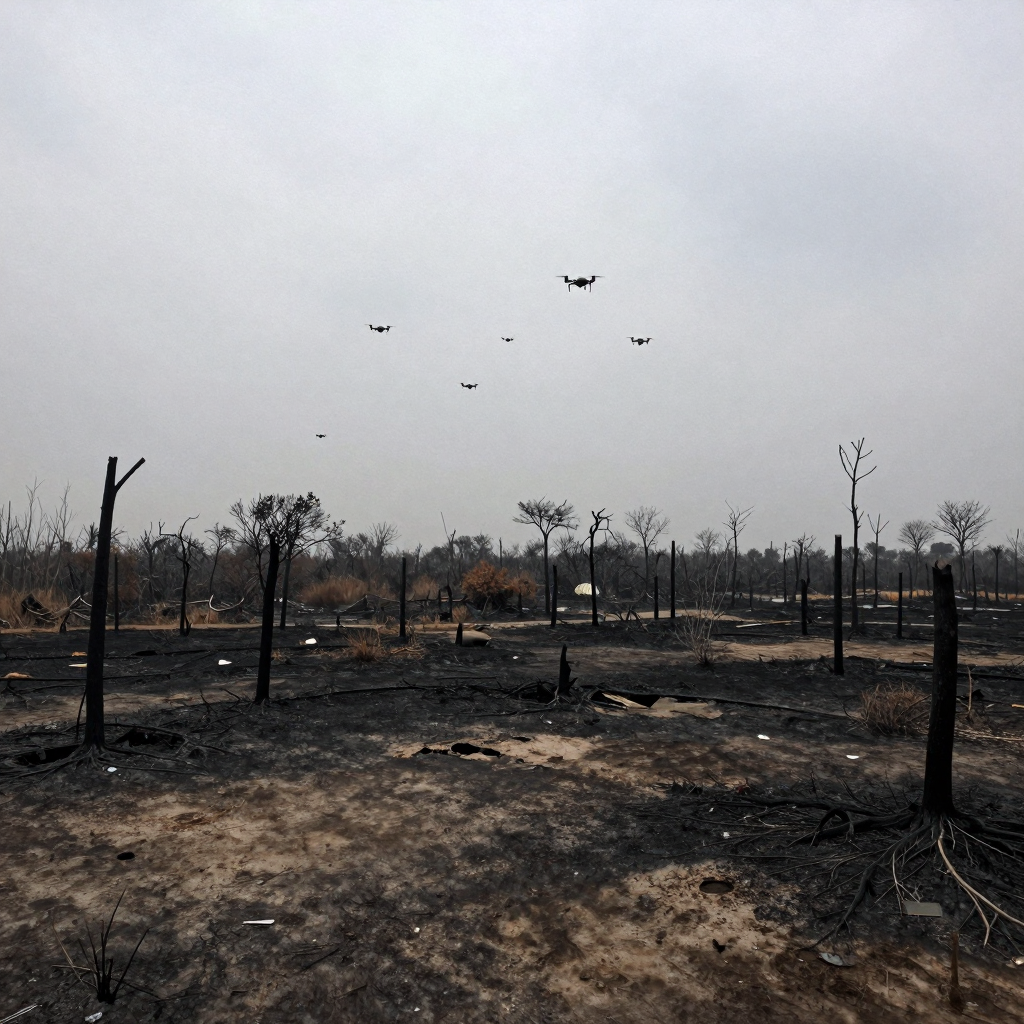drone: (556, 275, 605, 292), (365, 318, 395, 336), (626, 337, 654, 346), (460, 383, 478, 390), (501, 337, 514, 343), (316, 434, 327, 438)
